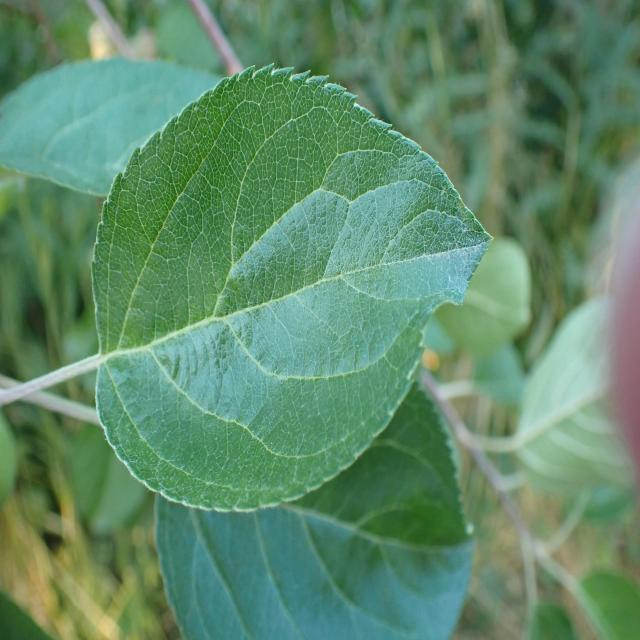healthy: (91, 62, 494, 514), (155, 376, 475, 640), (1, 55, 228, 198)
